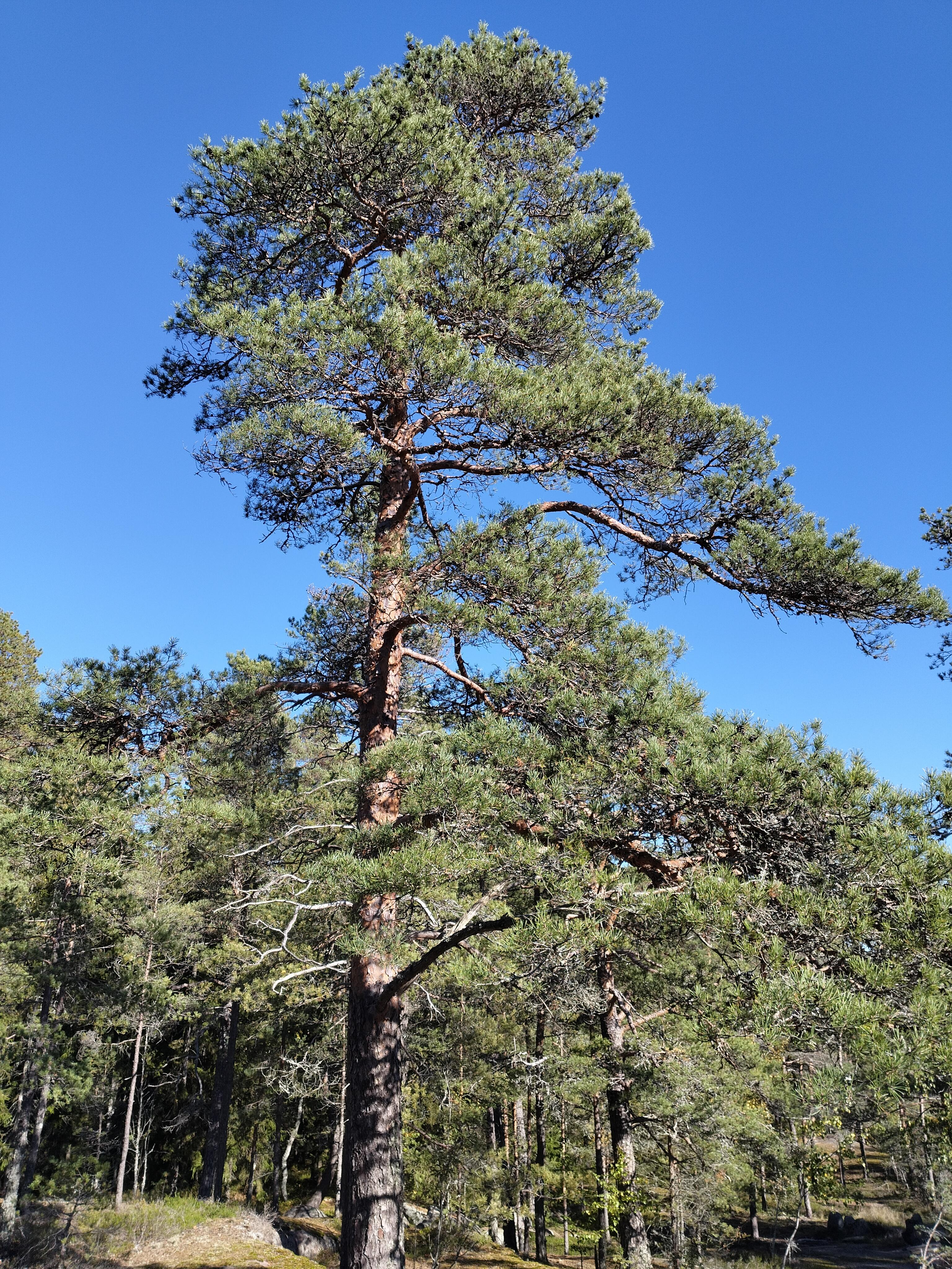Pine: (117, 19, 950, 1267)
